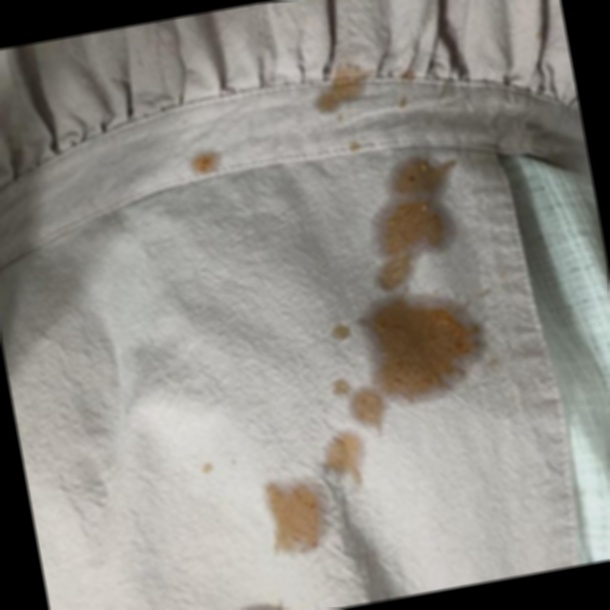kimchi: (269, 146, 516, 438), (240, 430, 395, 571), (301, 40, 442, 162), (175, 136, 237, 195), (192, 455, 215, 479)
